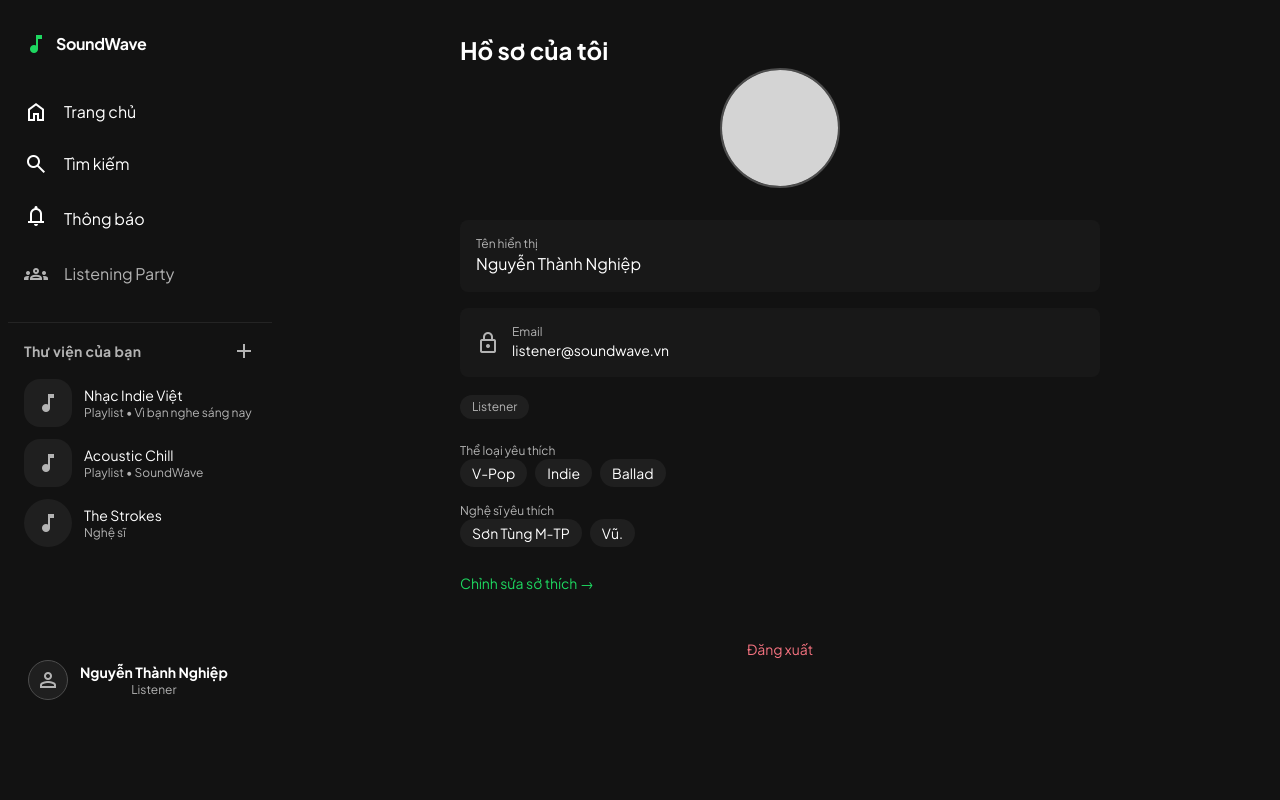
Scenario: ProfilePage › pressing Enter exits edit mode
Click the text with test id "name-display" at {"x": 559, "y": 264}, box [476, 253, 641, 274]
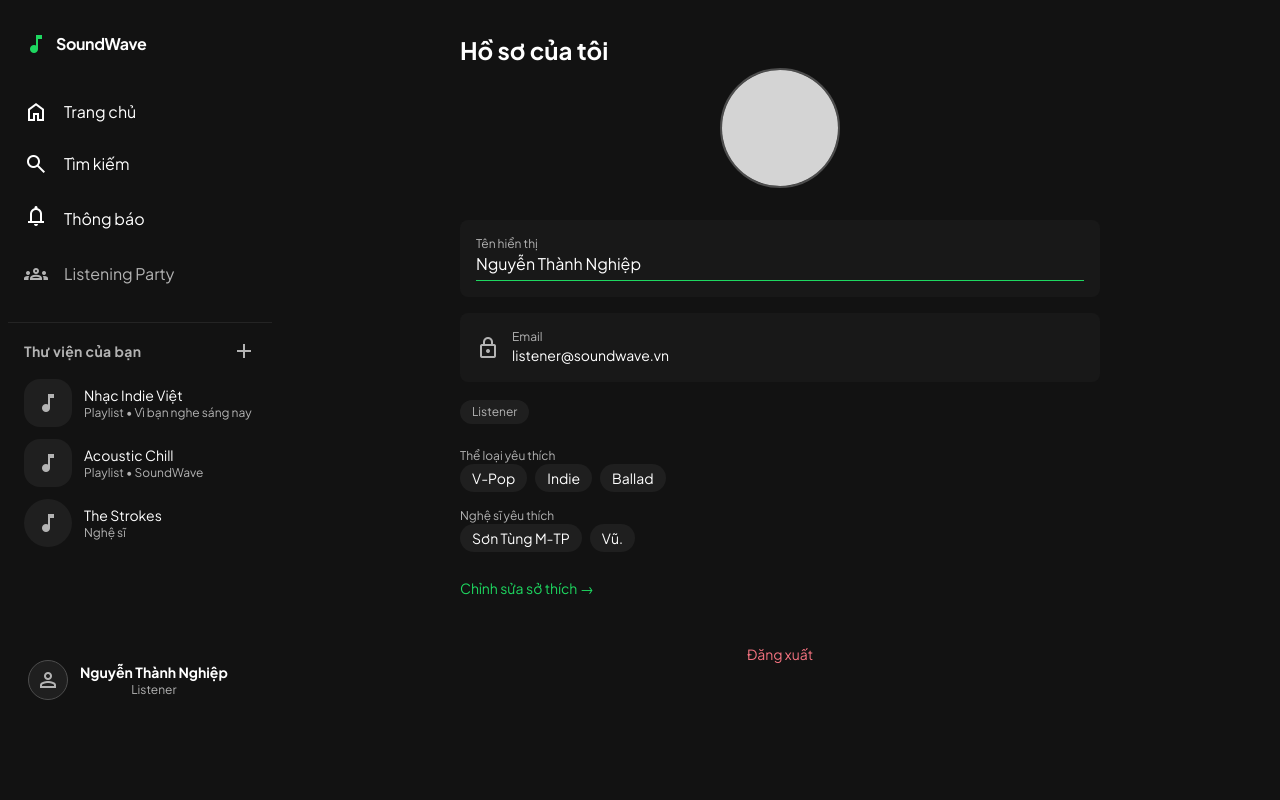
Press Enter in the field with test id "name-input", box [476, 252, 1084, 281]
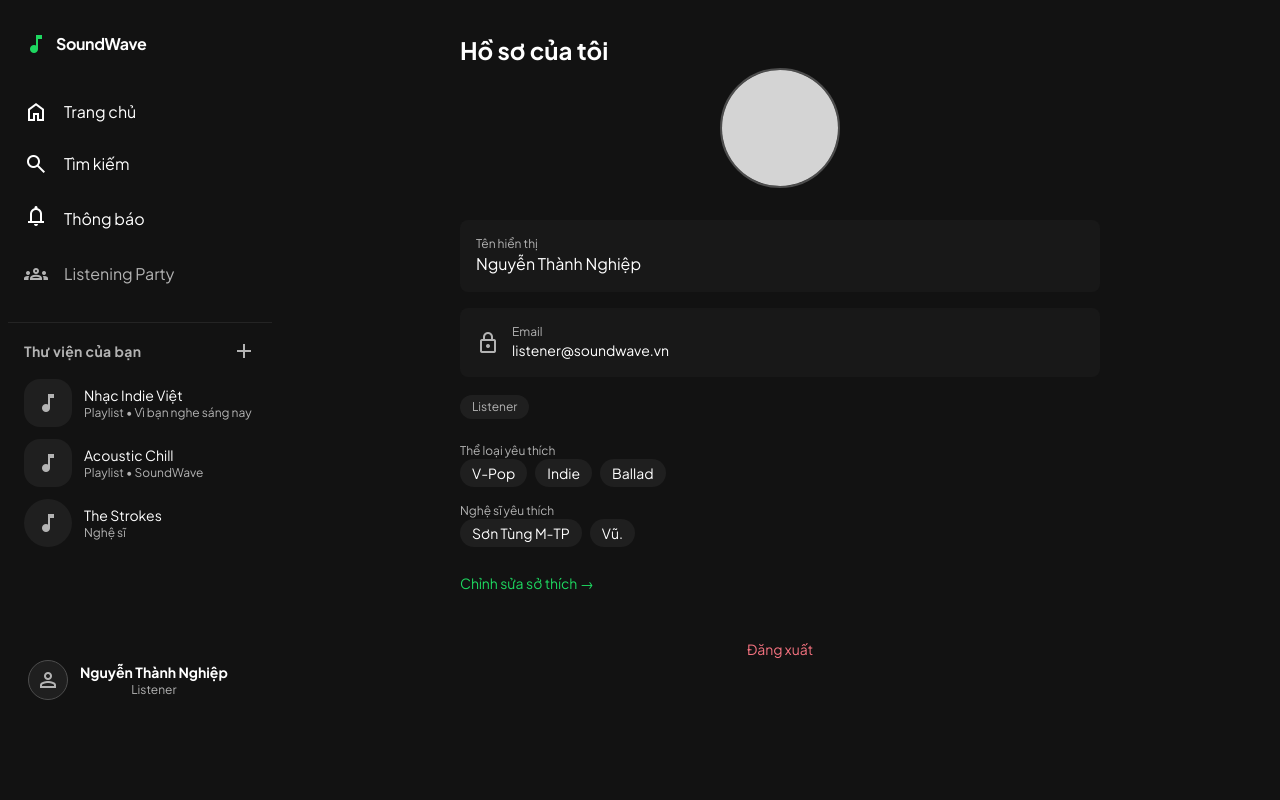
expect the text with test id "name-display" is shown: met, box [476, 253, 641, 274]
expect the field with test id "name-input" is gone: met
